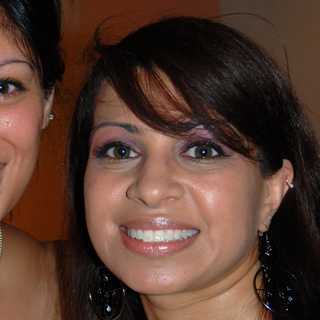eye: (181, 138, 233, 165), (96, 139, 142, 164), (1, 74, 26, 98)
